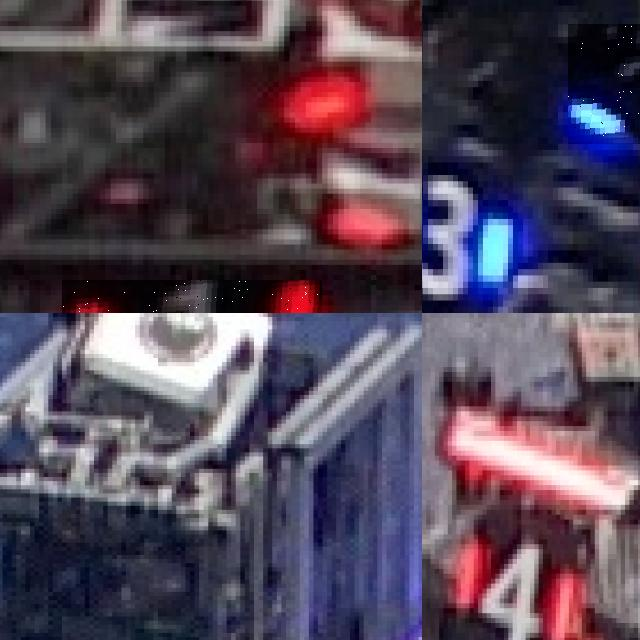B3: (422, 149, 518, 313), (568, 24, 640, 143)
R1: (61, 280, 322, 313)
R4: (452, 519, 581, 640)
